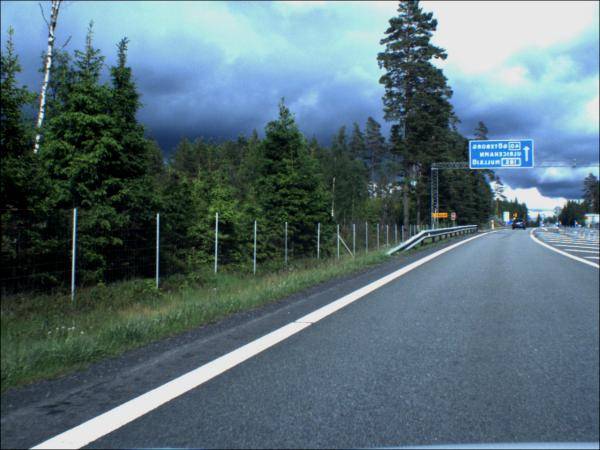100_SIGN: (514, 214, 518, 219), (586, 218, 589, 221)
PASS_RIGHT_SIDE: (542, 216, 545, 219)
STOP: (451, 214, 456, 222)
